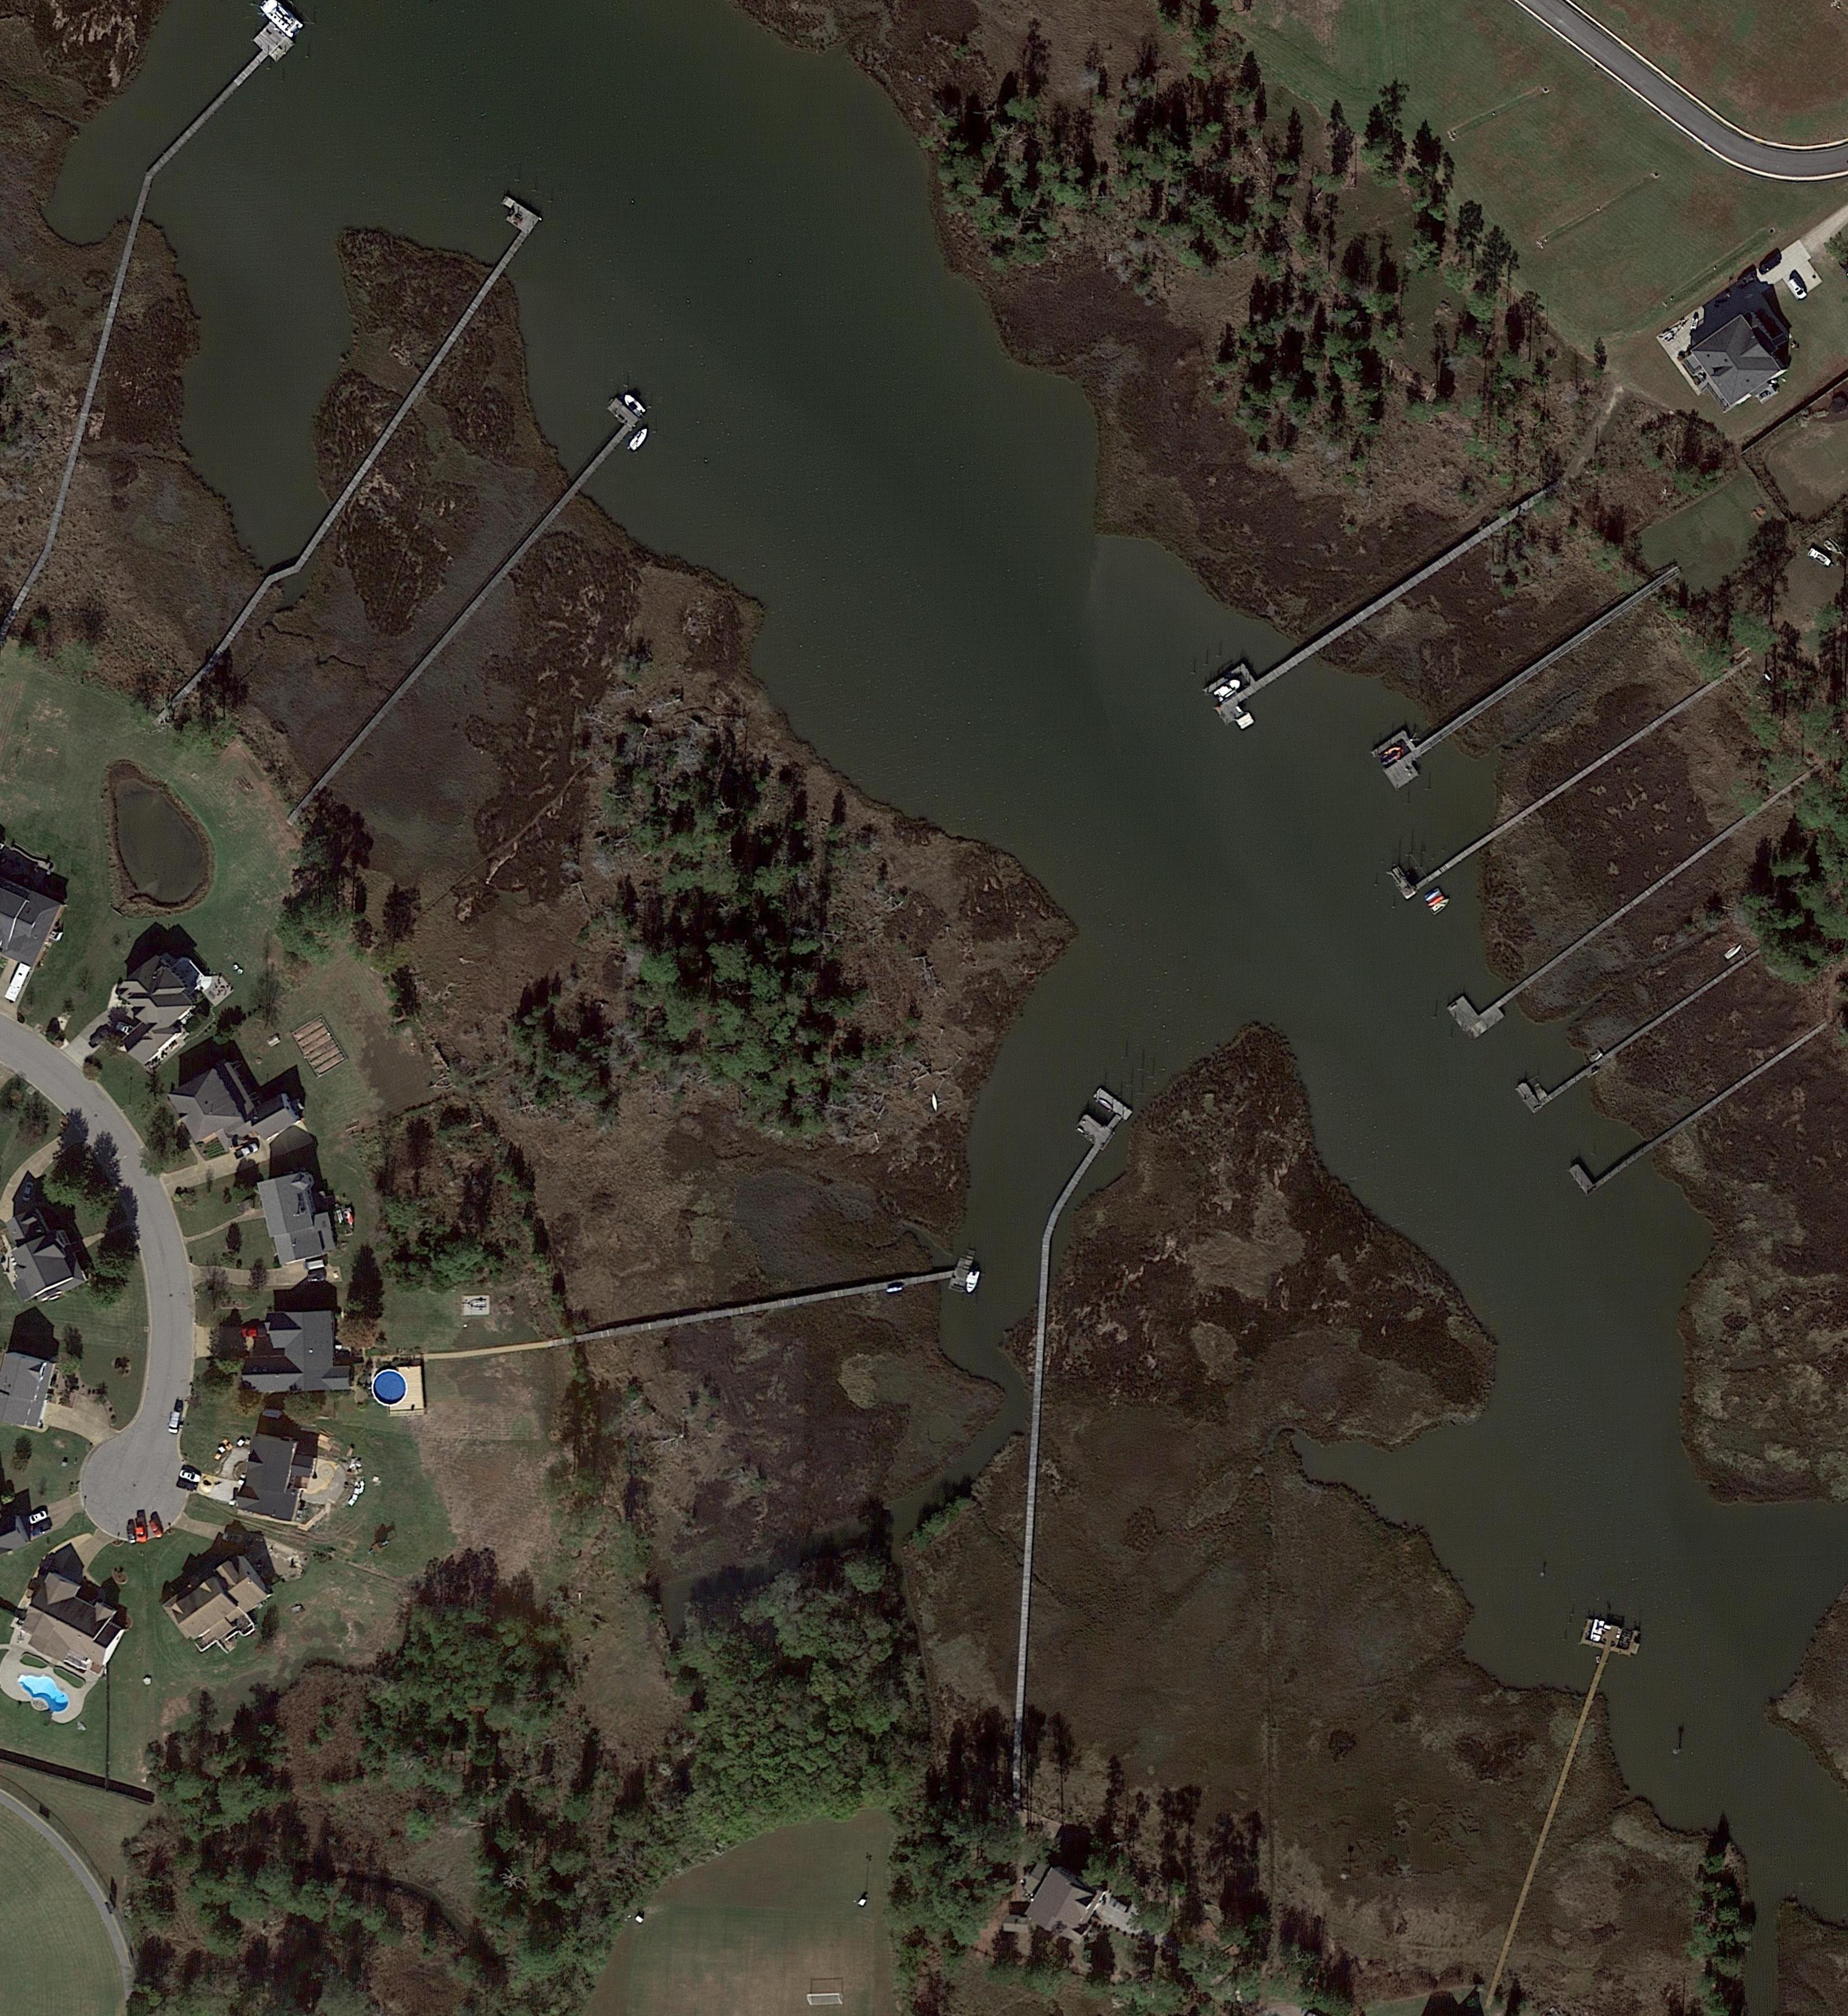harbor: (274, 195, 543, 578), (1203, 509, 1500, 736), (573, 1249, 987, 1357), (1390, 724, 1628, 903), (1368, 613, 1600, 792), (1569, 1031, 1794, 1198), (1446, 869, 1658, 1041), (1514, 968, 1709, 1115), (135, 23, 295, 184), (1532, 1616, 1644, 1812), (1036, 1087, 1133, 1208), (555, 397, 641, 493)
ship: (260, 0, 304, 35), (1212, 674, 1245, 704), (1658, 316, 1690, 346), (618, 390, 648, 420), (625, 425, 653, 455), (1377, 743, 1407, 767), (1806, 546, 1834, 571), (963, 1266, 984, 1294), (1822, 536, 1844, 558), (1428, 896, 1453, 917), (1723, 941, 1744, 959), (1590, 1619, 1604, 1644), (464, 1298, 488, 1310), (1425, 887, 1440, 903), (1426, 894, 1444, 908), (931, 1092, 938, 1112)
